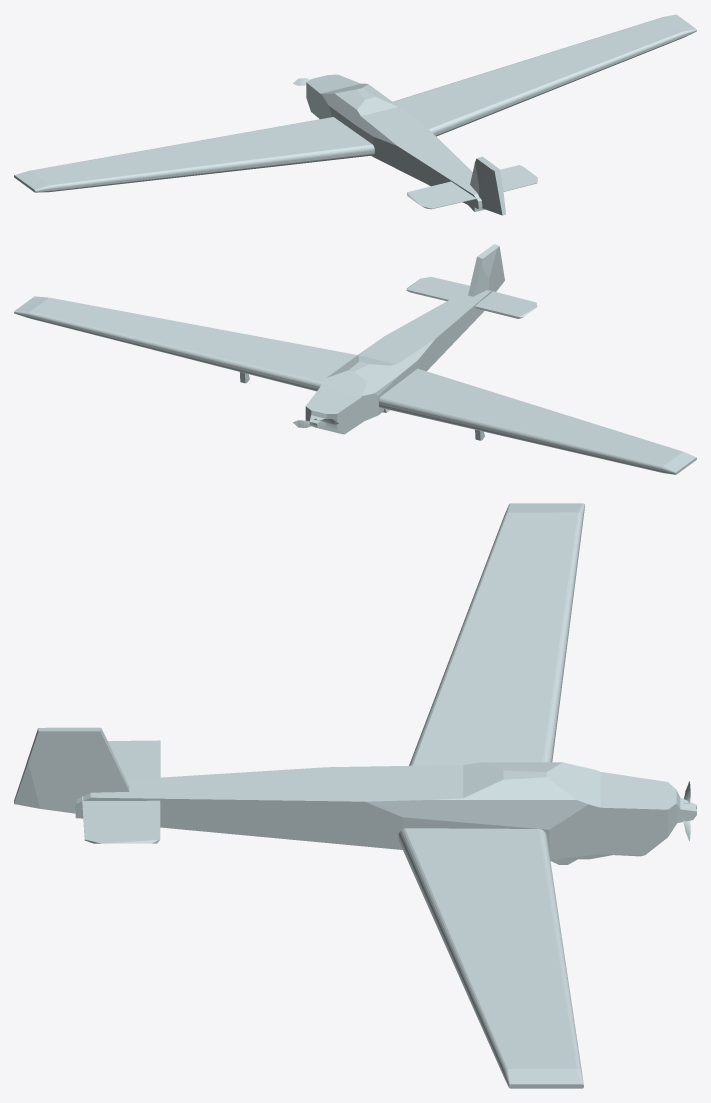
3 views of the same model, one above another, from view 1: azimuth 30°, elevation 25°; view 2: azimuth 150°, elevation 25°; view 3: azimuth 270°, elevation 25° (orthographic). The views are drawn at different scales.
Parts seen in each view (by area): view 1: Aircraft visual hull; view 2: Aircraft visual hull; view 3: Aircraft visual hull.
Part boxes in pixels (x1,y1,x2,y2): Aircraft visual hull: (14, 14, 696, 215); Aircraft visual hull: (14, 244, 696, 474); Aircraft visual hull: (14, 503, 696, 1088).
Size of the model in its own units: 15.3 by 1.63 by 7.62.
